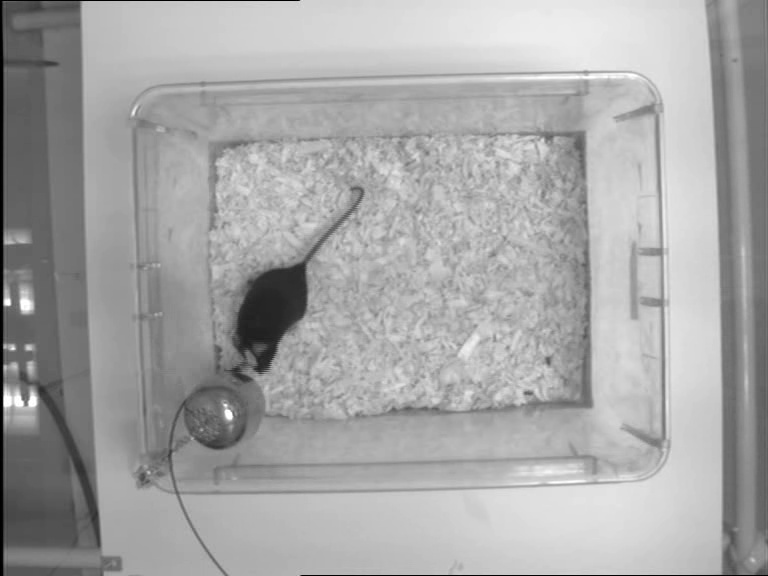mice: (230, 183, 366, 374)
